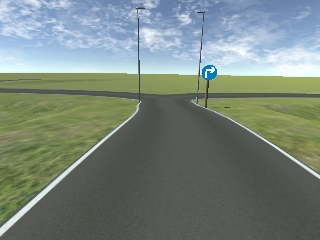right: (201, 65, 217, 80)
